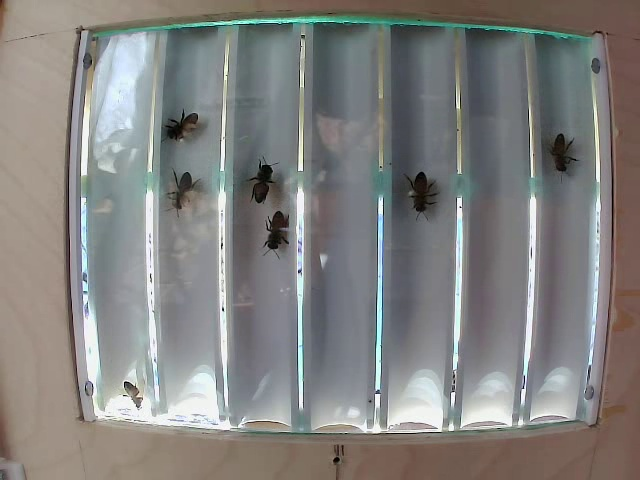bee: (147, 161, 197, 211), (163, 93, 207, 146), (401, 164, 440, 220), (264, 206, 298, 259), (246, 155, 278, 205), (539, 134, 576, 173)
